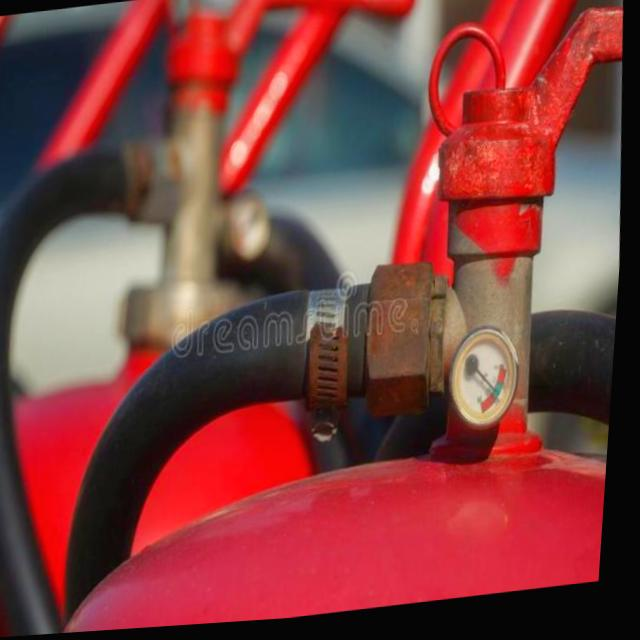FireExtinguisher: (23, 7, 638, 637), (0, 0, 365, 640)
